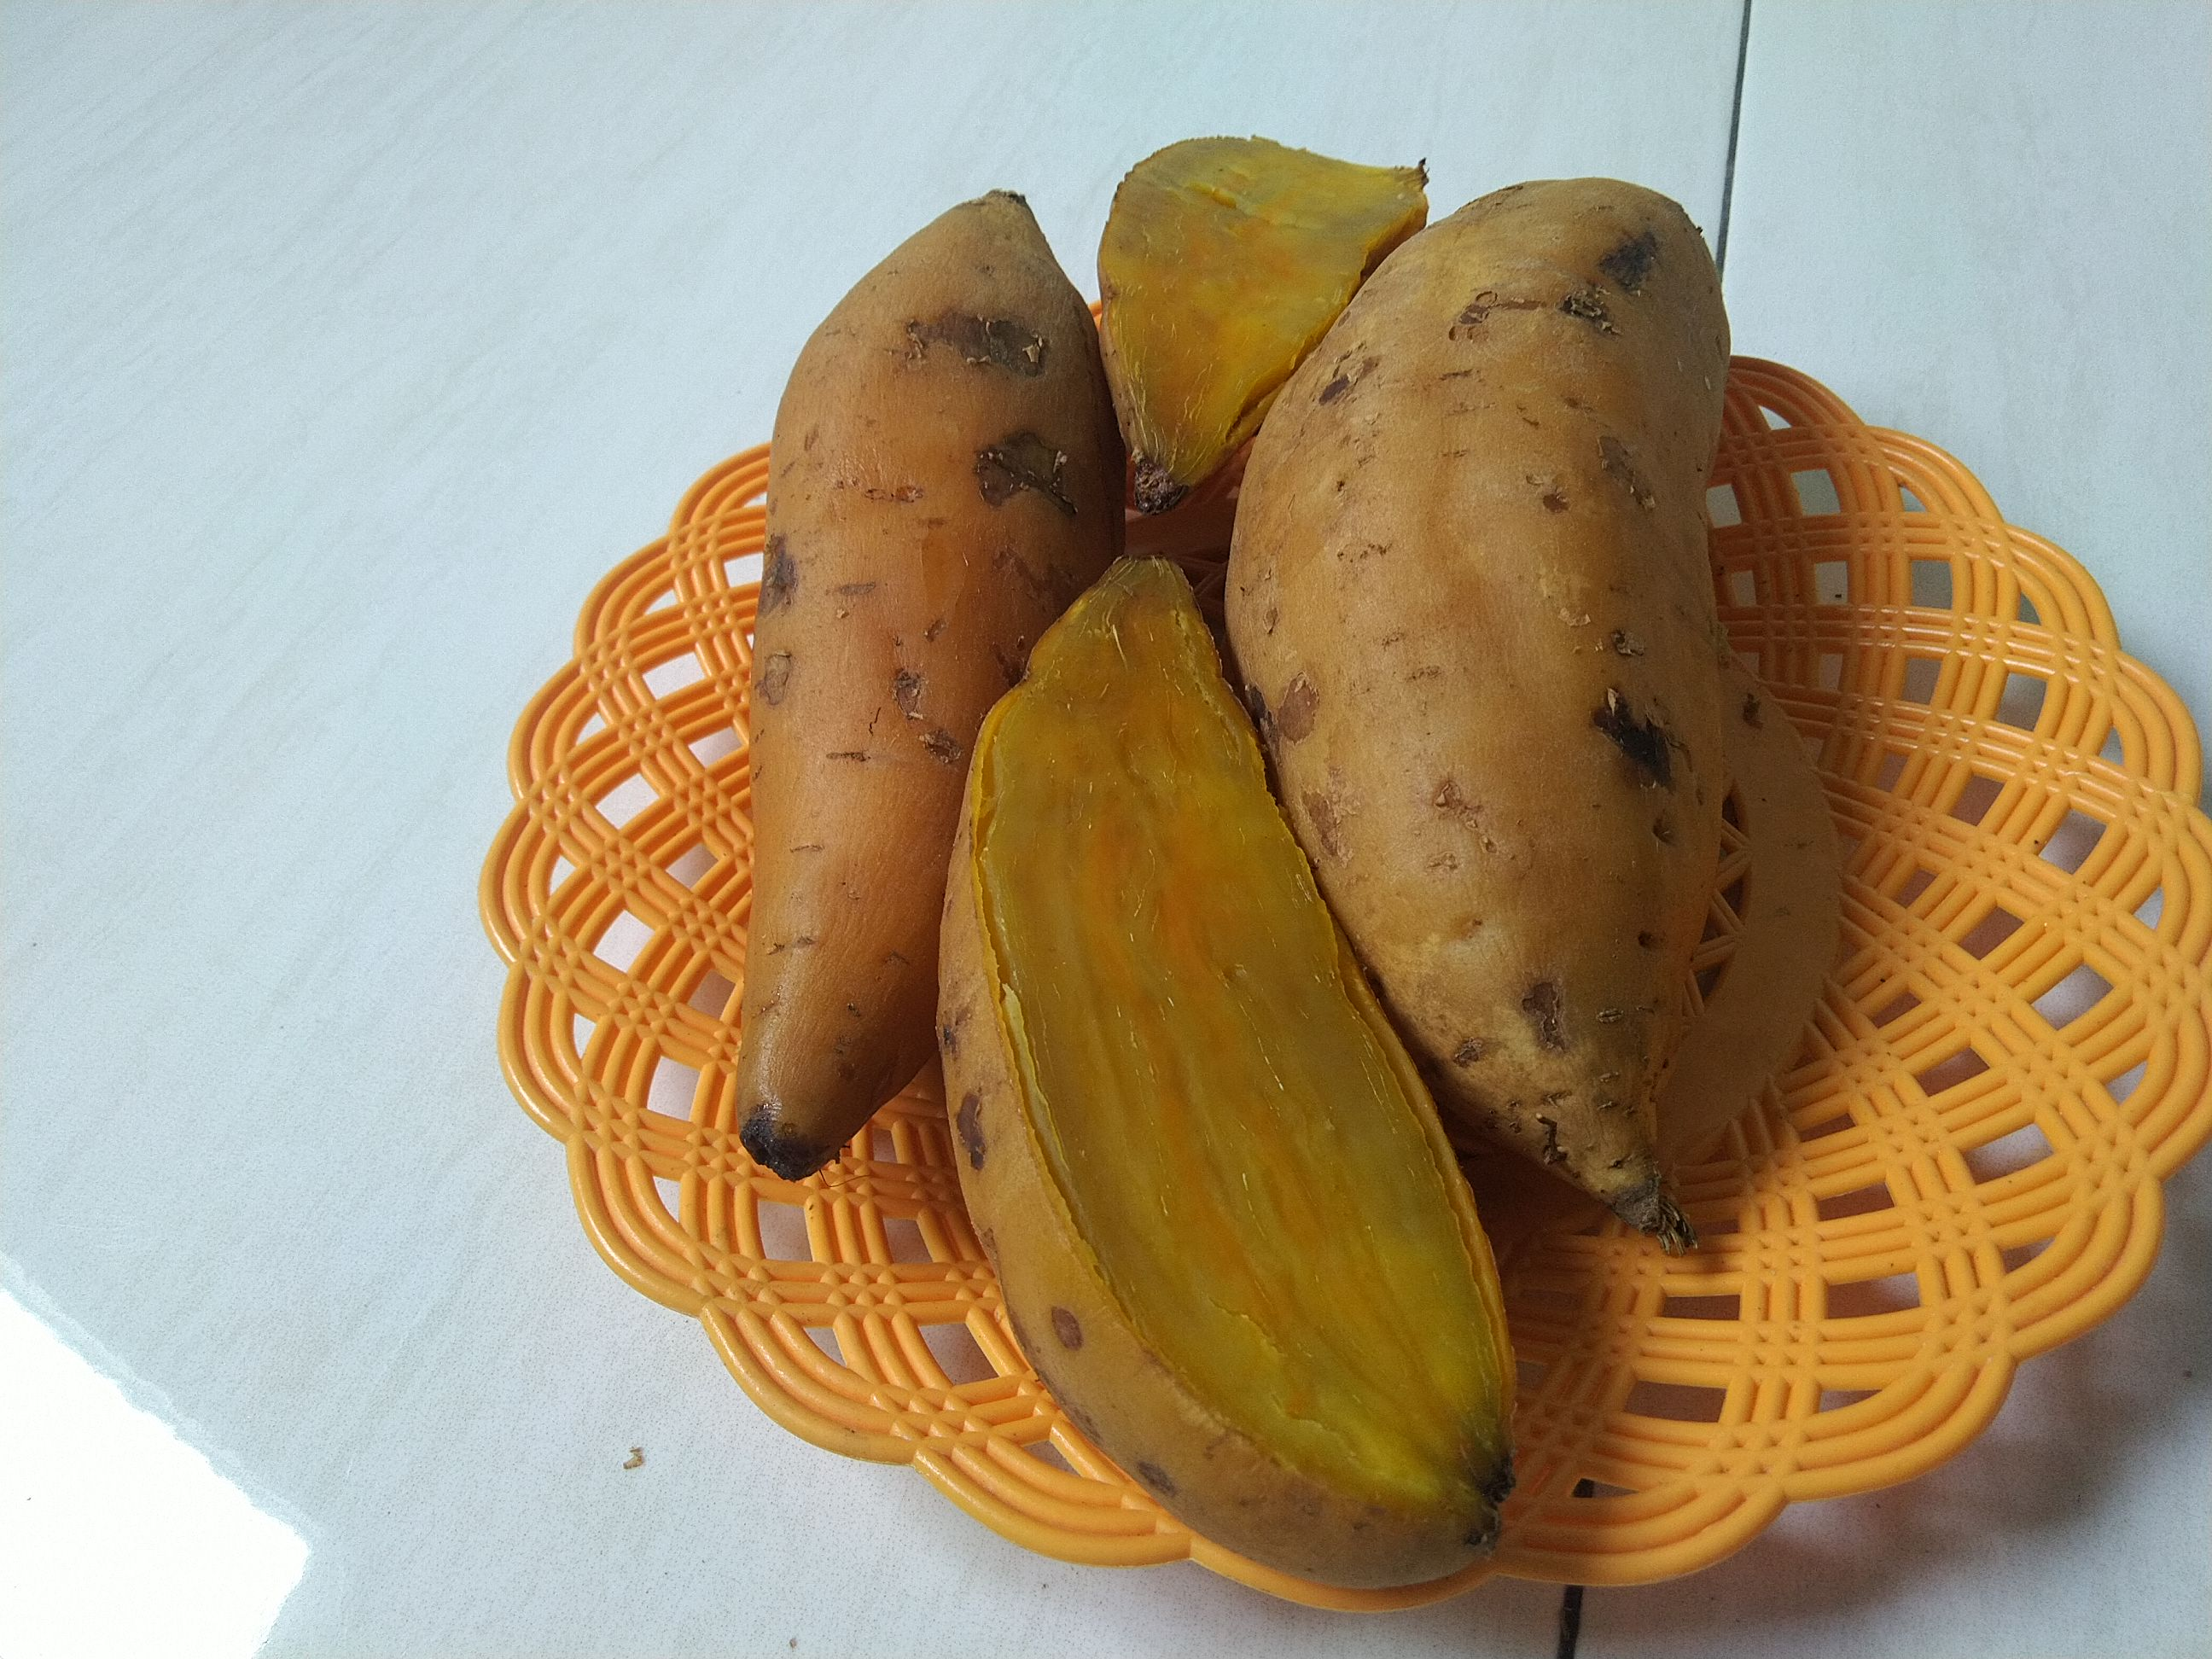ubi cilembu: (895, 547, 1529, 1605), (1233, 167, 1752, 1276), (732, 174, 1096, 1195), (1090, 98, 1446, 505)
